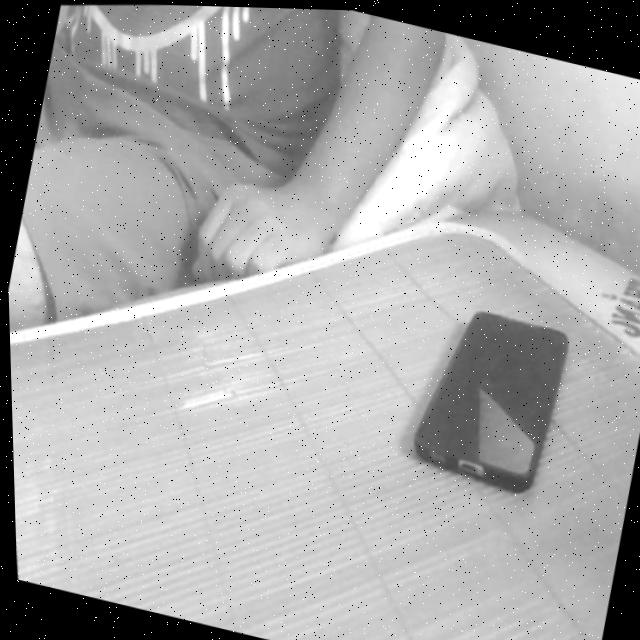phone: (340, 237, 639, 561)
